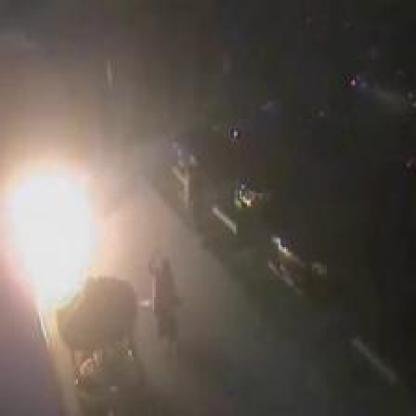fire: (5, 164, 106, 330)
